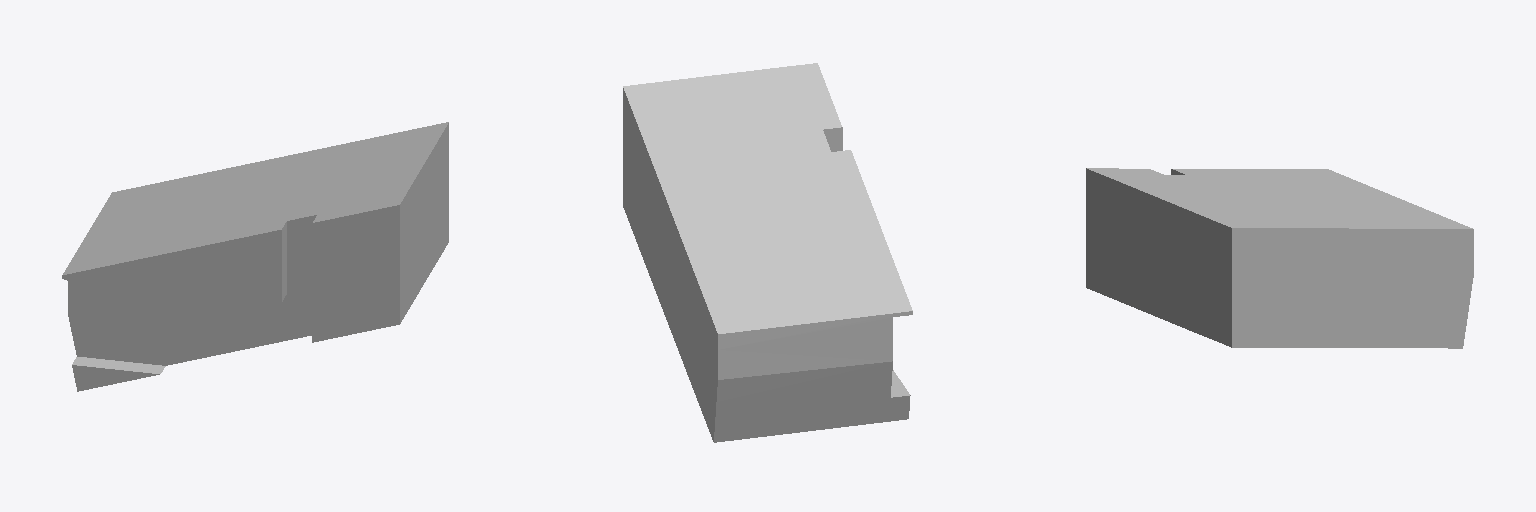
File: li-fang-ti-.001_cell.033.obj
3 views of the same model, side by side, from view 1: azimuth 30°, elevation 25°; view 2: azimuth 150°, elevation 25°; view 3: azimuth 270°, elevation 25° (orthographic).
Visible parts, largest first — view 1: 立方体.001_cell.033; view 2: 立方体.001_cell.033; view 3: 立方体.001_cell.033.
Boxes of the visible parts, x1=… form: 立方体.001_cell.033: x1=62, y1=122, x2=448, y2=391; 立方体.001_cell.033: x1=623, y1=63, x2=912, y2=442; 立方体.001_cell.033: x1=1086, y1=168, x2=1473, y2=348.
Size of the model in its own units: 0.5934 by 0.371 by 0.5889.